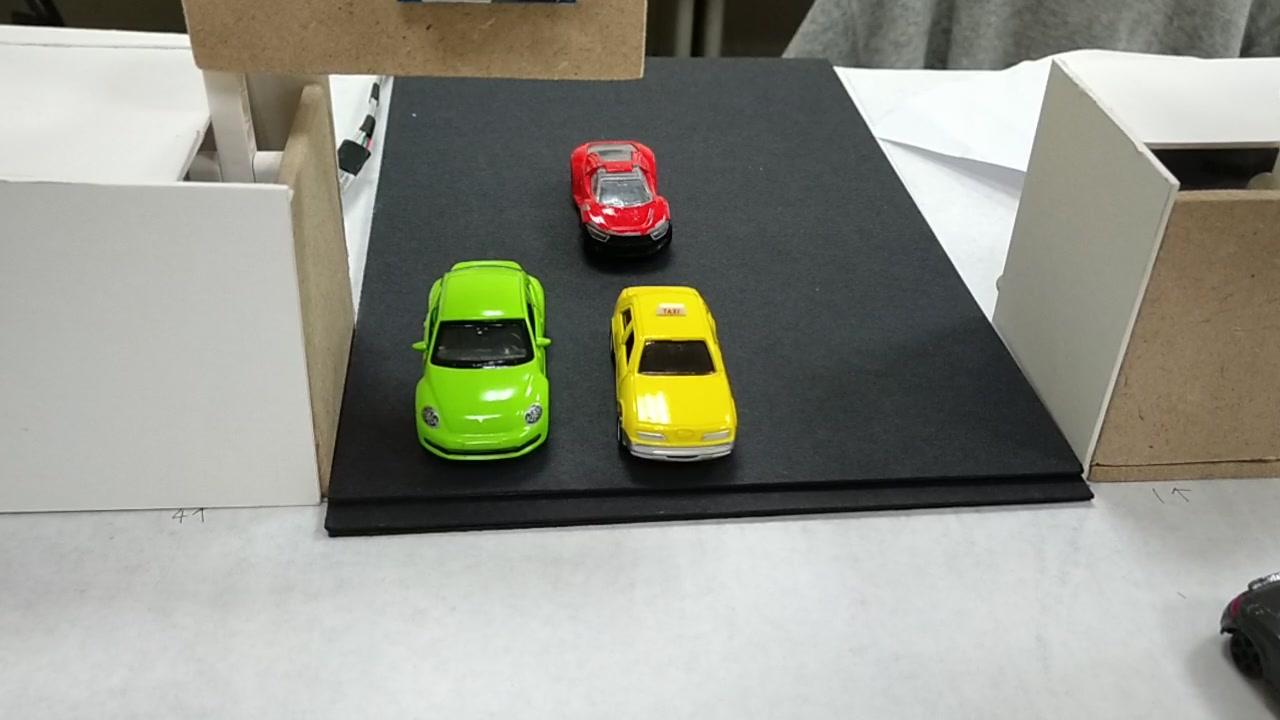car: (414, 264, 549, 461), (605, 288, 736, 457), (568, 139, 675, 257)
